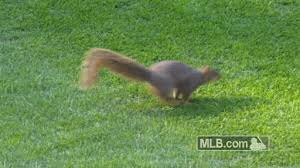squirrel: (79, 47, 221, 109)
